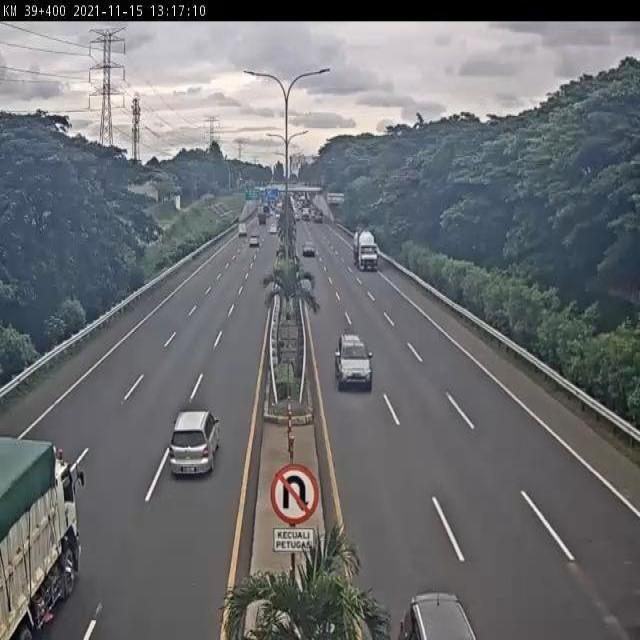Car: (166, 408, 221, 478), (332, 330, 375, 394), (302, 240, 316, 258), (248, 232, 261, 248)
Truck: (0, 436, 92, 640), (353, 227, 380, 275), (238, 220, 248, 238)
